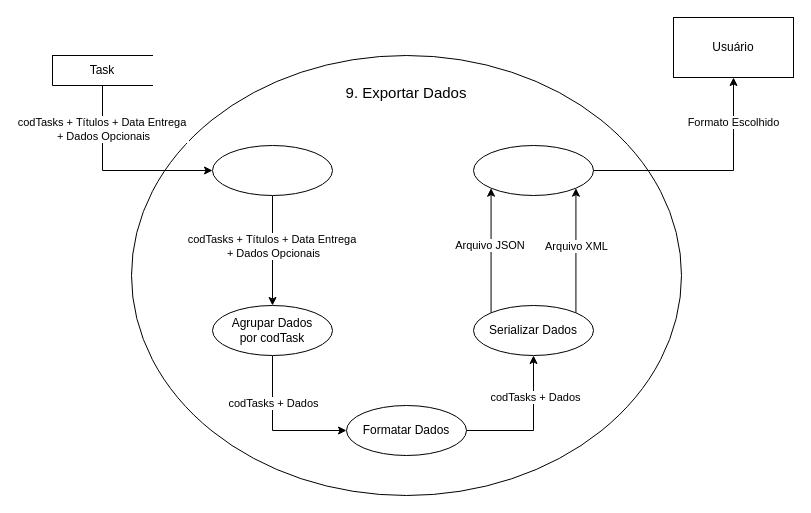
Some shapes in this 811 by 513 pixel diagram are drawn without their labels. The shapes that lost their labels are listed below. From the top down, each one's centre as x and y in pixels, then its label:
At (x=272, y=170): "Identifcar Tasks Recebidas".
At (x=533, y=170): "Validar Formato de Arquivo".
